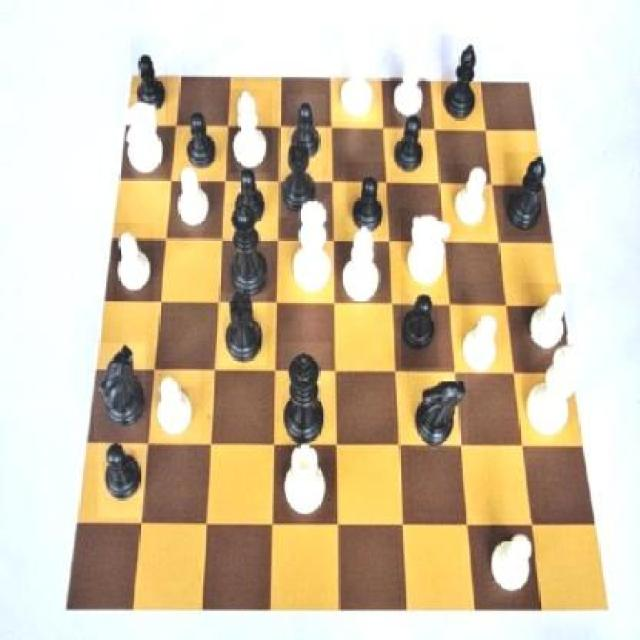bishop: (440, 36, 482, 130), (504, 152, 548, 236)
black-bishop: (278, 343, 331, 443)
black-king: (94, 343, 146, 439), (411, 368, 468, 450)
black-knight: (99, 436, 146, 518), (130, 37, 168, 121), (225, 163, 267, 237), (400, 287, 438, 368), (346, 162, 387, 234), (181, 108, 224, 174), (286, 96, 326, 166), (391, 116, 431, 176)
black-pawn: (224, 203, 272, 293)
black-queen: (278, 126, 322, 217), (220, 291, 268, 366)
black-rook: (339, 216, 383, 306), (229, 89, 272, 173)
white-bishop: (522, 335, 586, 443)
white-king: (400, 209, 453, 303), (120, 94, 166, 180)
white-knight: (518, 283, 574, 363), (484, 520, 534, 603), (152, 368, 200, 440), (166, 162, 210, 238), (114, 223, 154, 304), (457, 308, 506, 374), (446, 164, 490, 234), (390, 54, 426, 128)
white-pawn: (289, 194, 334, 300)
white-queen: (280, 442, 334, 519), (331, 43, 378, 123)
